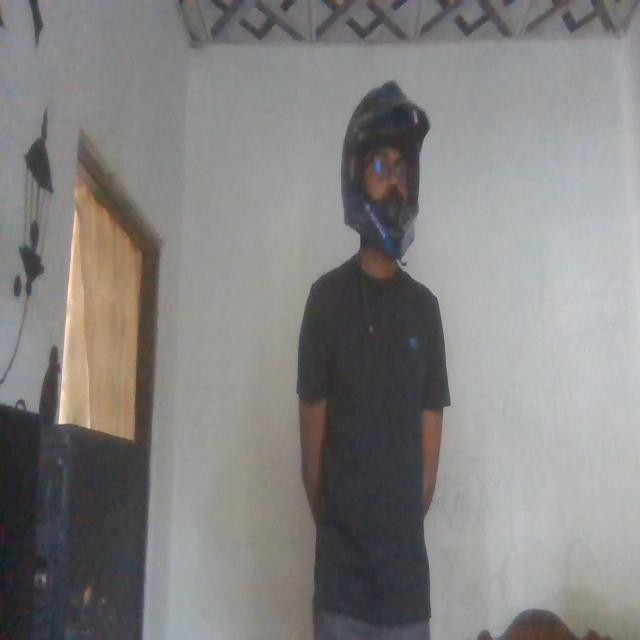Helmet_Wearer: (334, 83, 434, 274)
Person: (304, 77, 447, 640)
